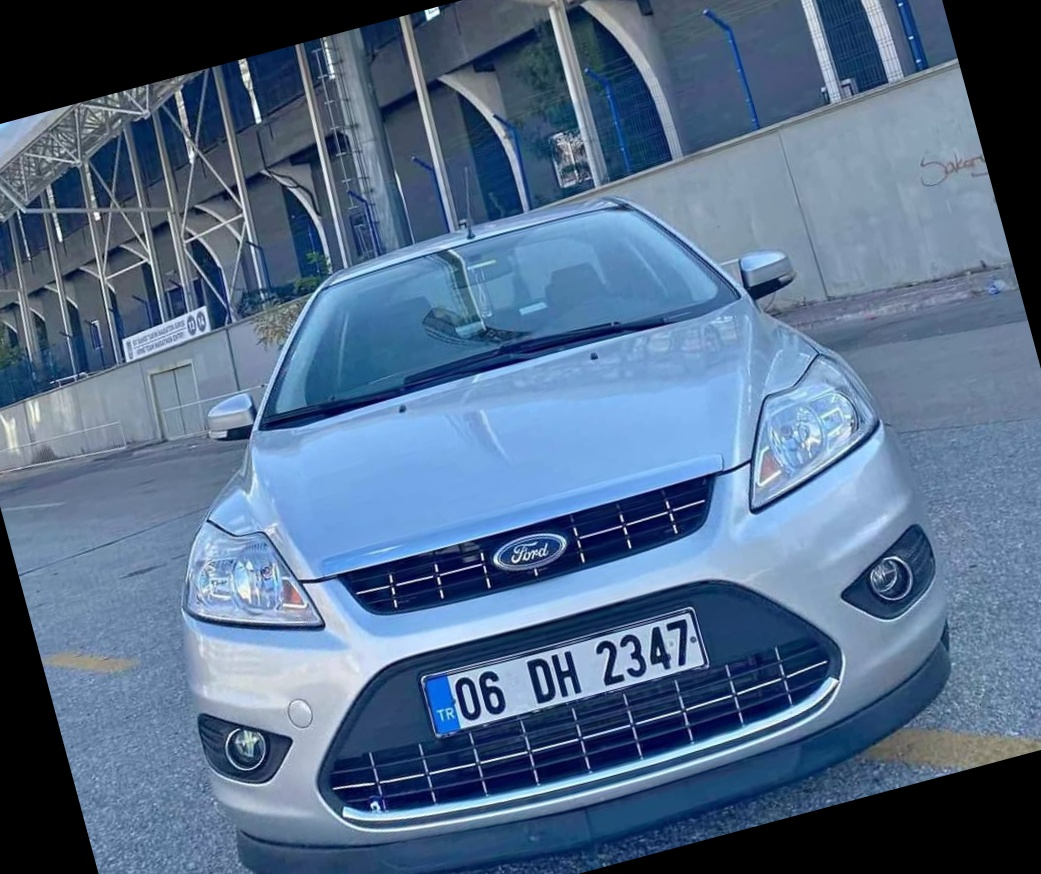plaka: (452, 611, 706, 725)
